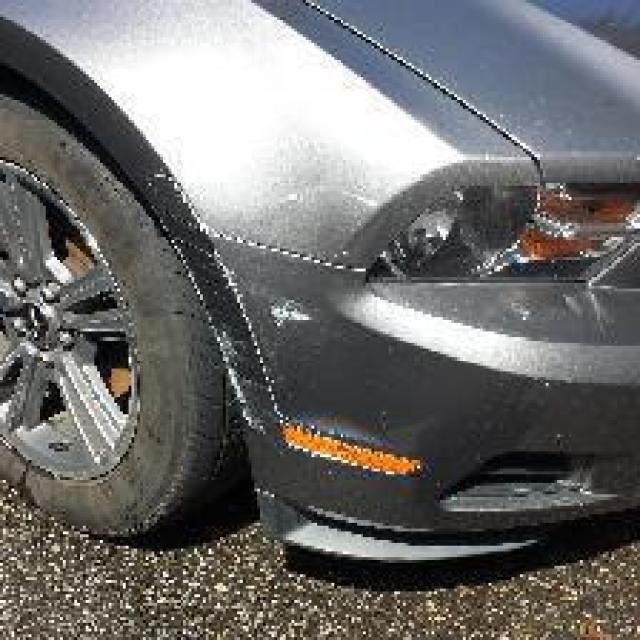damaged: (160, 163, 392, 460)
